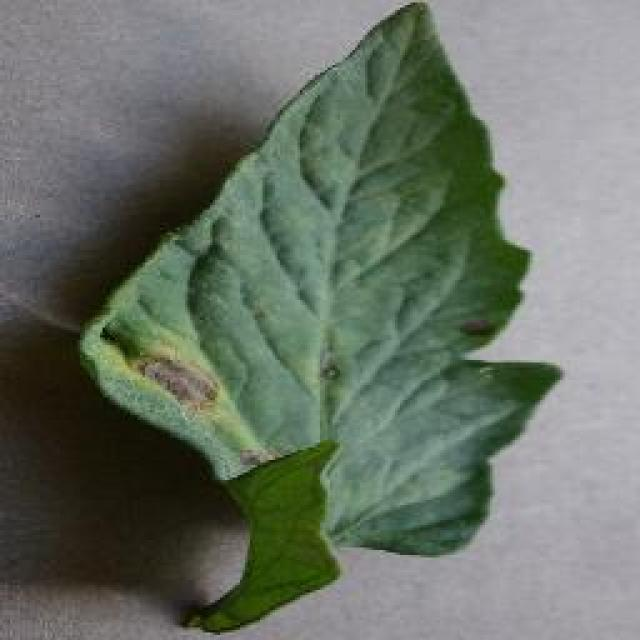Tomato___Early_blight: (78, 0, 569, 635)
